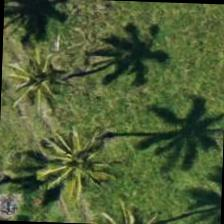Kelapa_Sawit: (31, 116, 124, 208), (0, 40, 85, 134)
